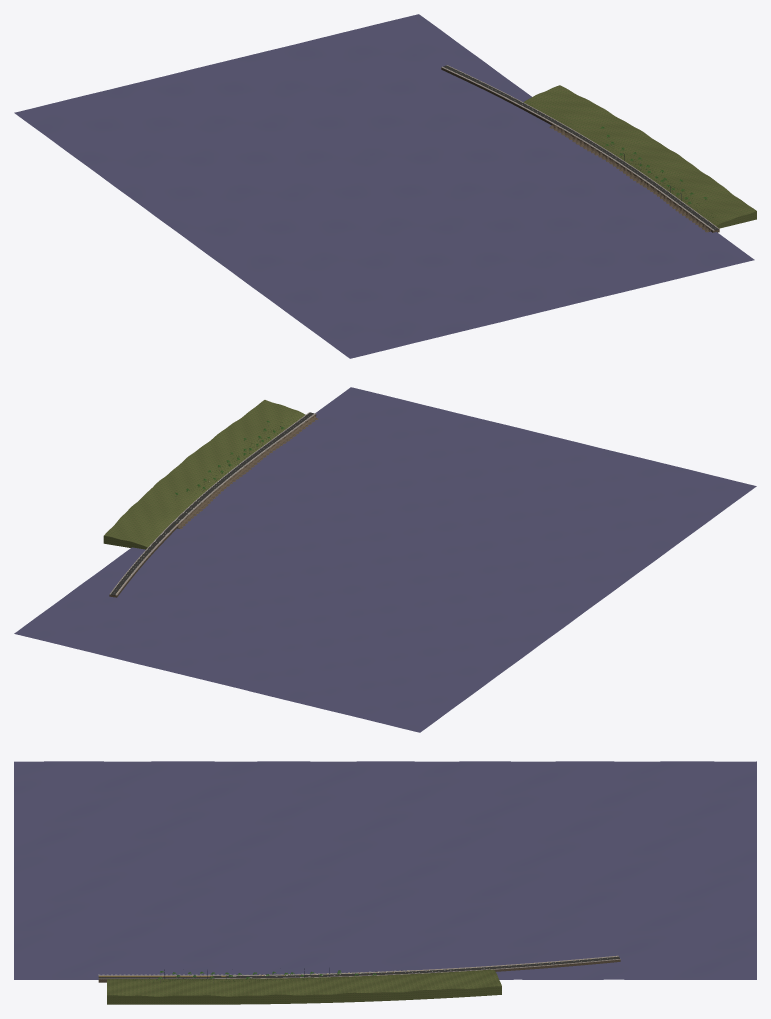
File: Seafront_Textured.glb
3 views of the same model, one above another, from view 1: azimuth 30°, elevation 25°; view 2: azimuth 150°, elevation 25°; view 3: azimuth 270°, elevation 25° (orthographic). The views are drawn at different scales.
Parts seen in each view (by area): view 1: Near_ocean_wave_geometry, Undulating_coastal_land_slope, Two_way_road_7m20, Continuous_rocky_seawall_slope; view 2: Near_ocean_wave_geometry, Undulating_coastal_land_slope, Two_way_road_7m20, Continuous_rocky_seawall_slope; view 3: Near_ocean_wave_geometry, Undulating_coastal_land_slope, Two_way_road_7m20, Promenade_2m25, Inland_walk_1m10.
Part boxes in pixels (x1,y1,x2,y2): Near_ocean_wave_geometry: (14, 14, 754, 358); Undulating_coastal_land_slope: (523, 85, 756, 228); Two_way_road_7m20: (443, 65, 718, 230); Continuous_rocky_seawall_slope: (549, 124, 710, 232); Near_ocean_wave_geometry: (14, 387, 756, 732); Undulating_coastal_land_slope: (103, 400, 305, 549); Two_way_road_7m20: (110, 412, 314, 595); Continuous_rocky_seawall_slope: (177, 415, 318, 528); Near_ocean_wave_geometry: (14, 761, 756, 979); Undulating_coastal_land_slope: (107, 969, 501, 1004); Two_way_road_7m20: (98, 956, 619, 978); Promenade_2m25: (98, 955, 618, 975); Inland_walk_1m10: (99, 959, 620, 979).
Bounding box in the file's own units: 710 × 18.39 × 920.
Materials: 13 (7 with a texture image).
